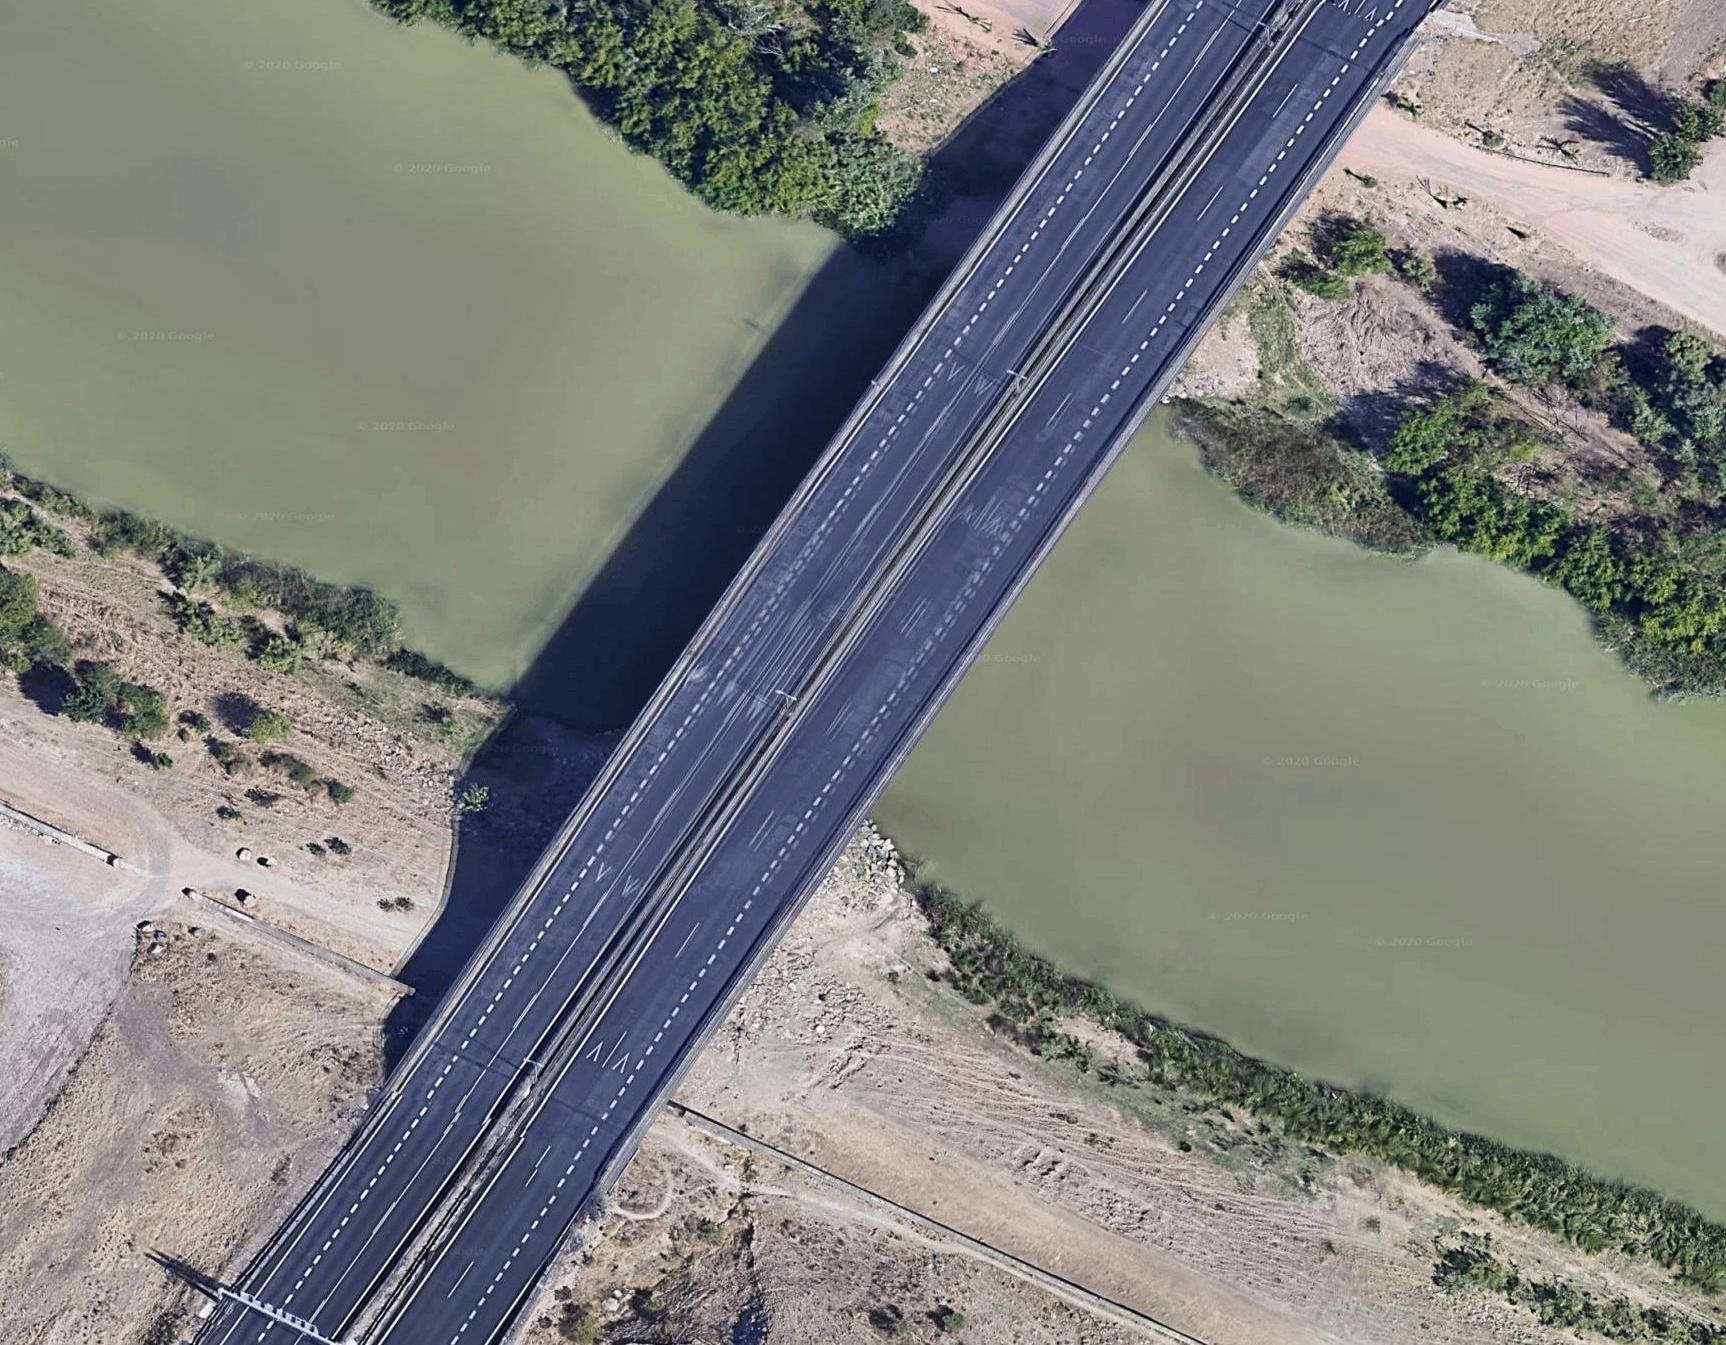bridge: (333, 74, 1527, 1027)
